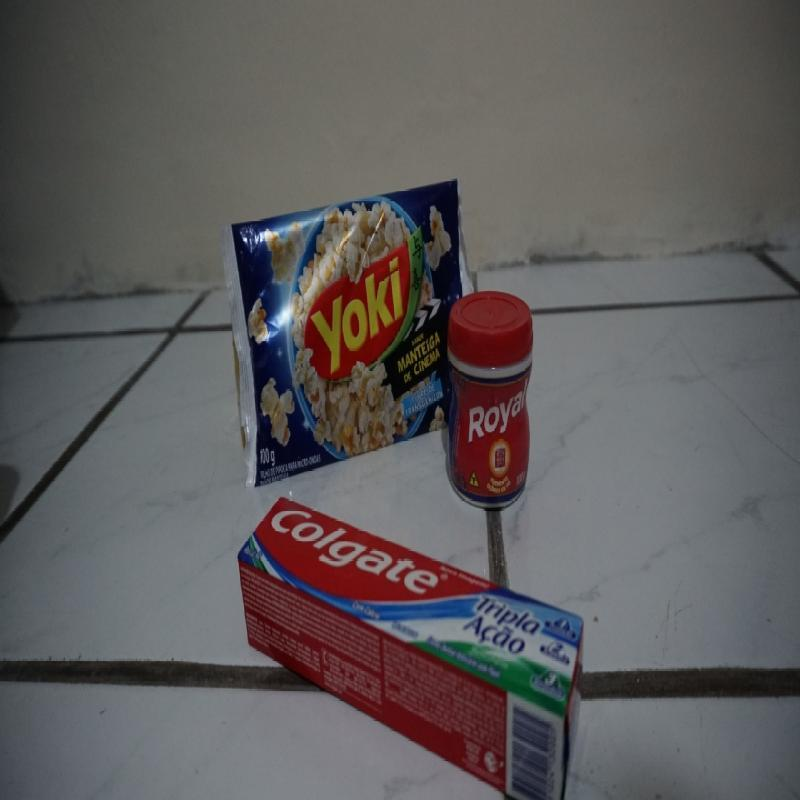Popcorn: (232, 177, 446, 472)
Toothpaste: (239, 490, 594, 786)
Yeast: (449, 288, 534, 506)
